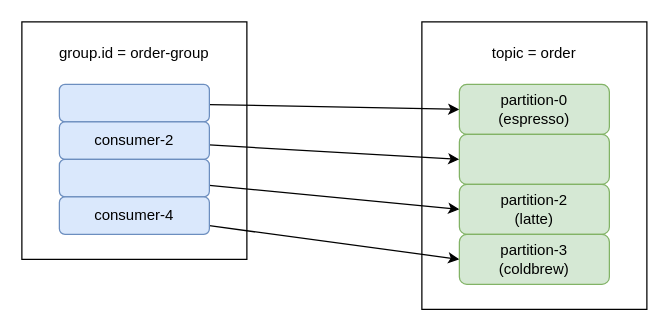
This 669x331 diagram has some shape labels left out. The shapes that lost their labels are listed below. From the top down, each one's centre as x and y in pixels, then its label:
point 133,102: consumer-1
point 133,177: consumer-3
point 533,158: partition-1 (americano)
